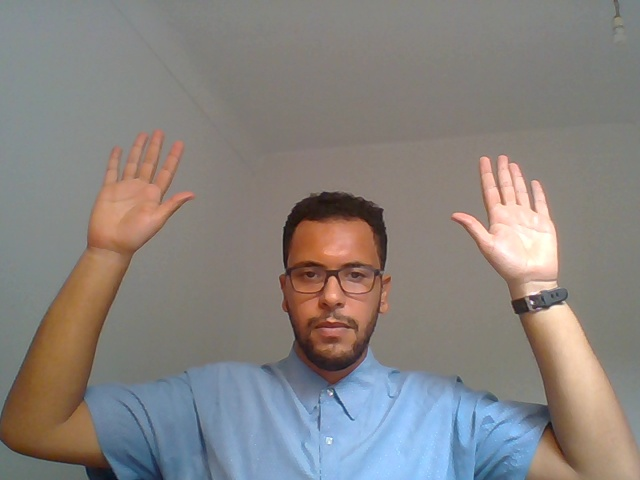hello: (430, 121, 622, 454), (51, 103, 229, 392)
